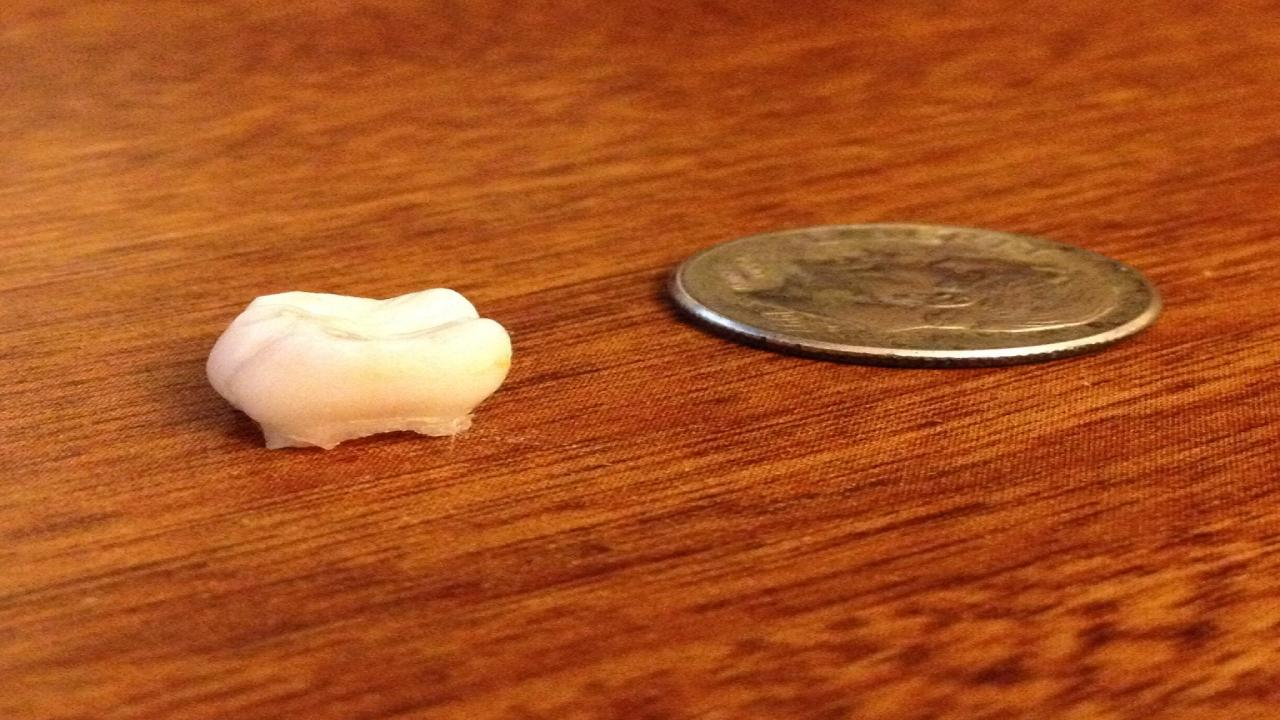coin: (668, 220, 1168, 372)
